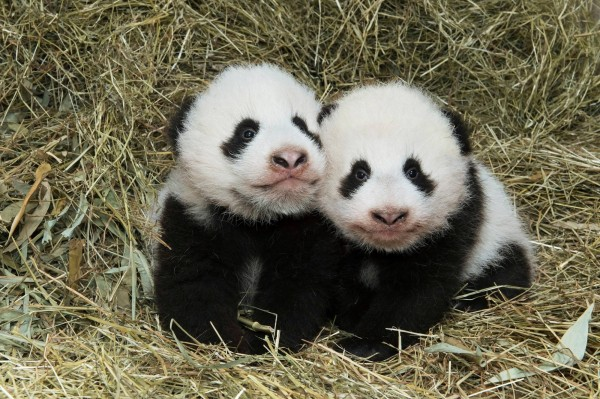panda: (309, 77, 537, 361), (157, 61, 334, 355)
